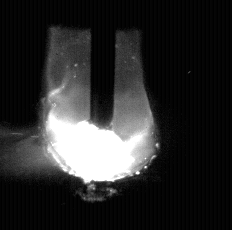arame: (91, 0, 115, 131)
poca: (45, 0, 155, 230)
